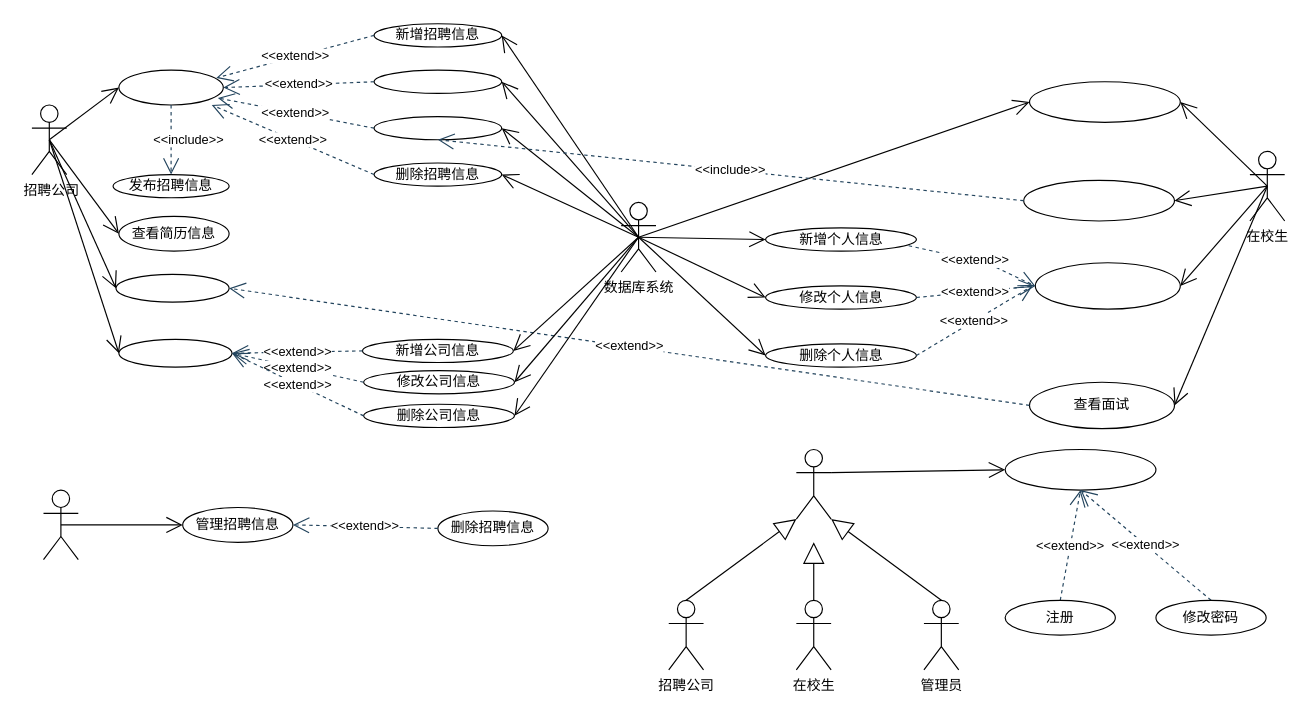
This 1308x715 diagram has some shape labels left out. The shapes that lost their labels are listed below. From the top down, each one's centre as x and y in pixels, then its label:
point (170, 87): 编辑招聘信息
point (437, 81): 修改招聘信息
point (1104, 101): 修改简历
point (437, 127): 查询招聘信息
point (1098, 200): 投递简历
point (172, 287): 通知面试
point (1107, 285): 填写个人信息
point (175, 352): 填写公司信息
point (813, 483): 用户
point (1080, 469): 登录
point (60, 524): 注册管理员
